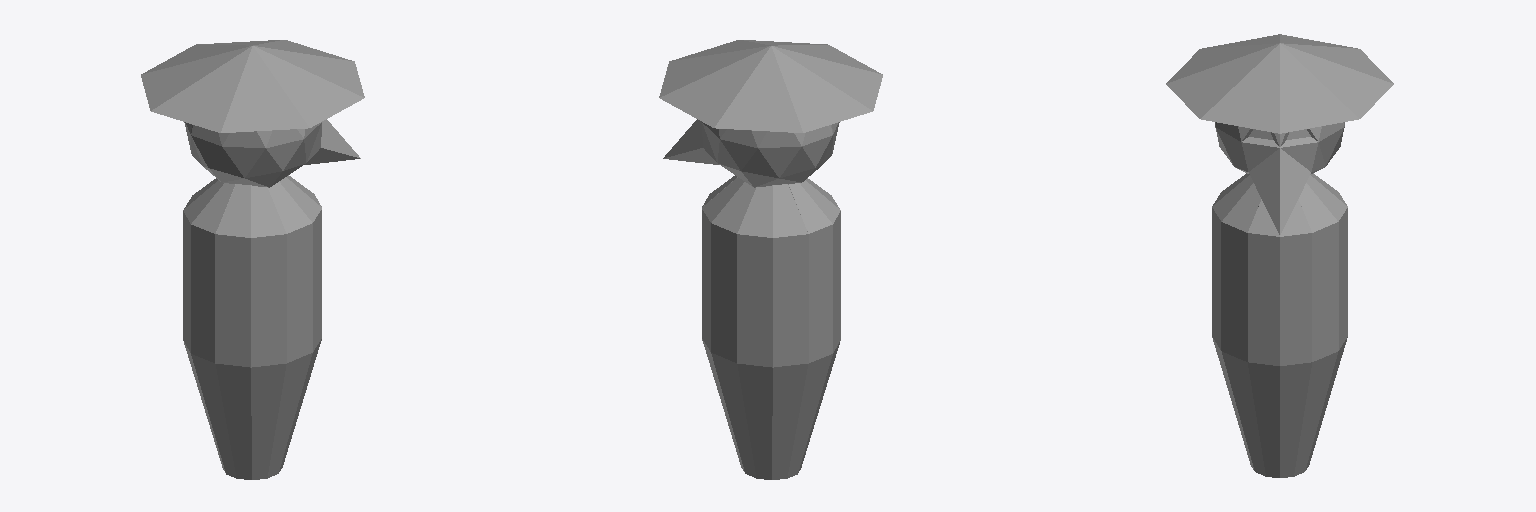
The model's file is invisiboy.obj.
3 views of the same model, side by side, from view 1: azimuth 30°, elevation 25°; view 2: azimuth 150°, elevation 25°; view 3: azimuth 270°, elevation 25° (orthographic).
Parts seen in each view (by area): view 1: Cylinder; view 2: Cylinder; view 3: Cylinder.
Part boxes in pixels (x1,y1,x2,y2): Cylinder: (141,40,364,479); Cylinder: (659,40,882,479); Cylinder: (1166,34,1393,477).
Size of the model in its own units: 3.41 by 6.53 by 3.21.